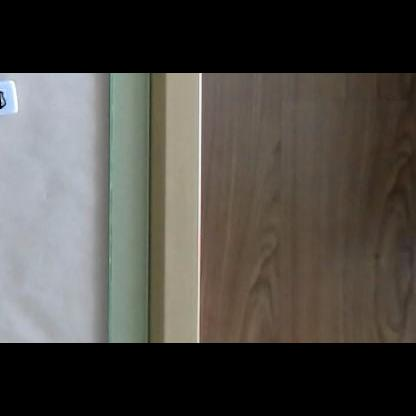3z: (0, 89, 6, 109)
